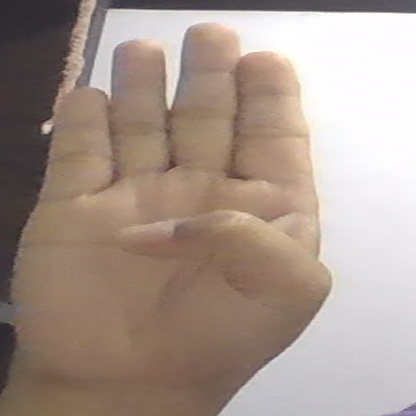B: (6, 23, 330, 408)
